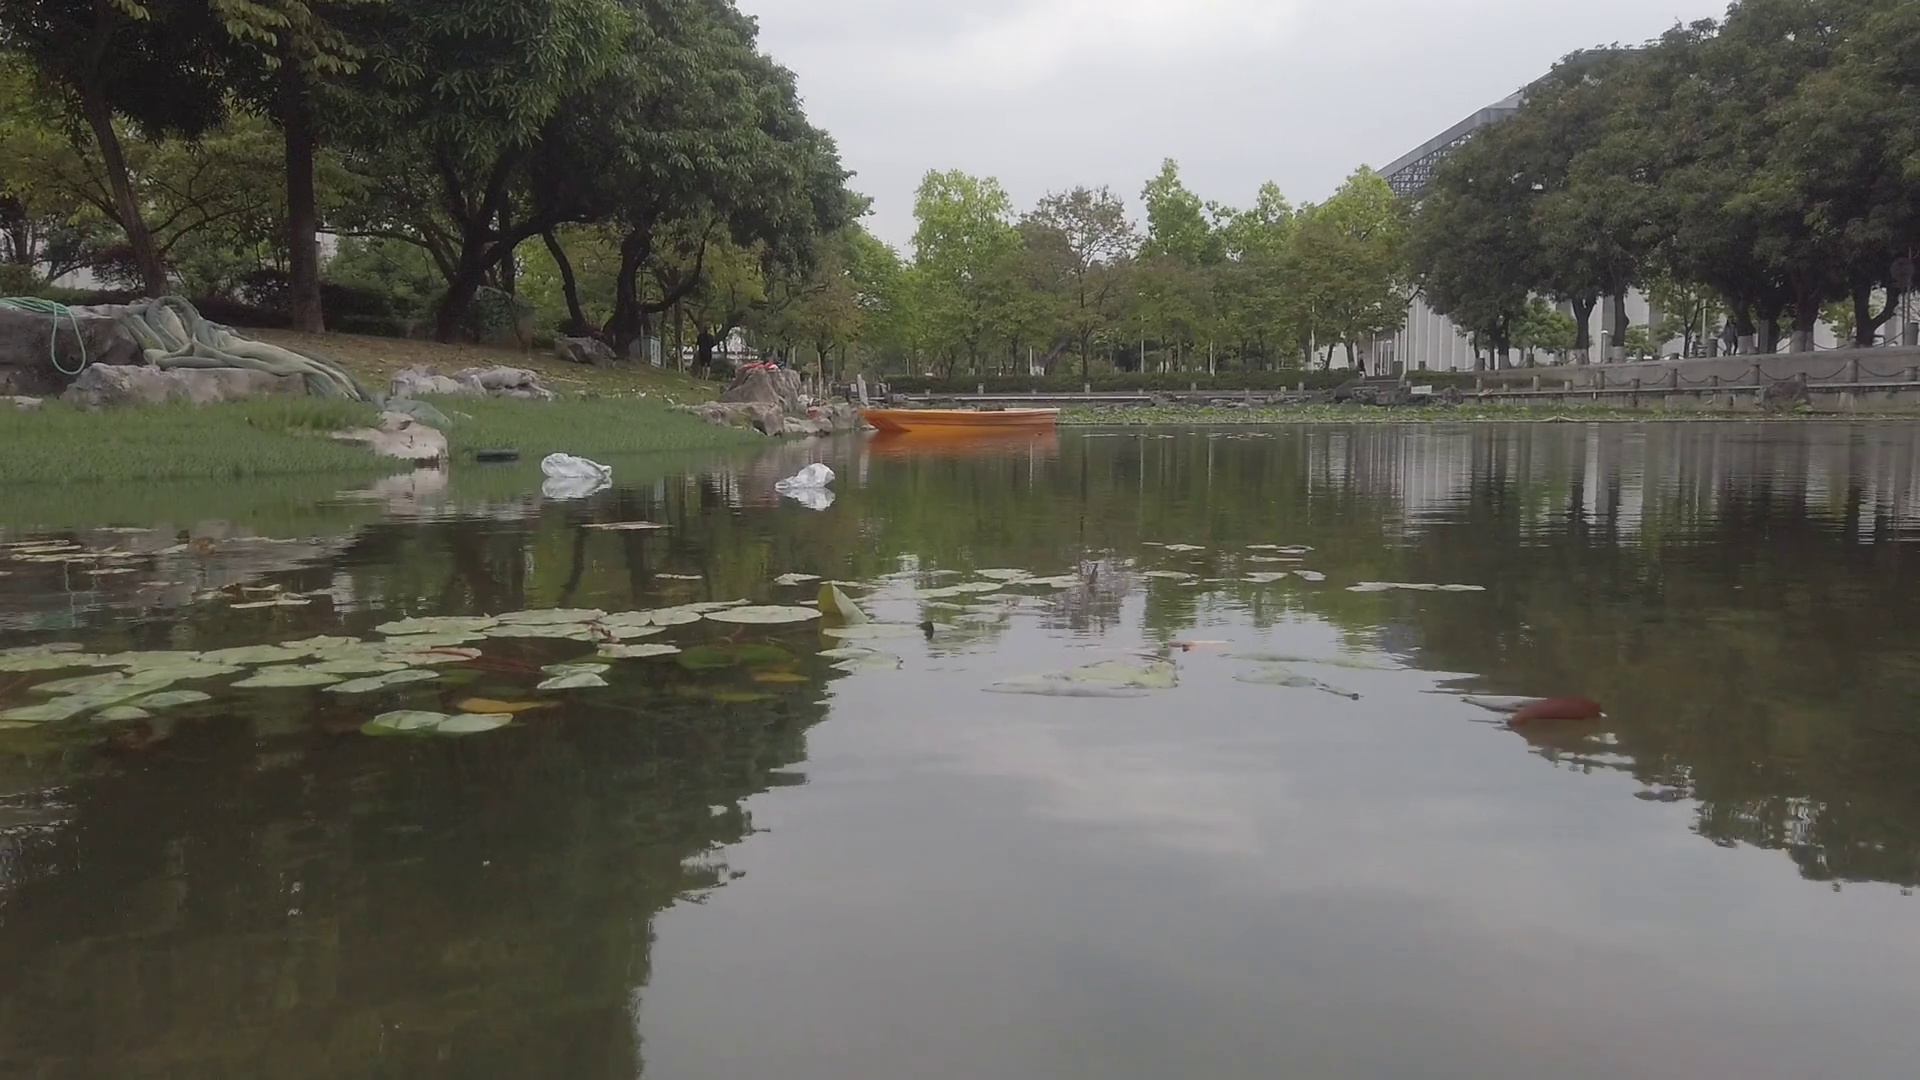paper: (582, 520, 673, 535)
plastic: (541, 452, 615, 480), (777, 463, 841, 489)
